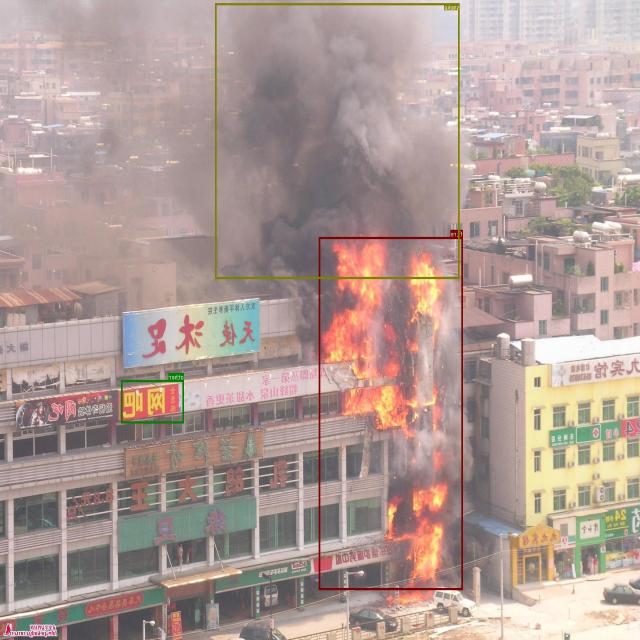fire: (319, 236, 463, 590)
other: (122, 380, 184, 422)
smoke: (215, 3, 460, 279)
